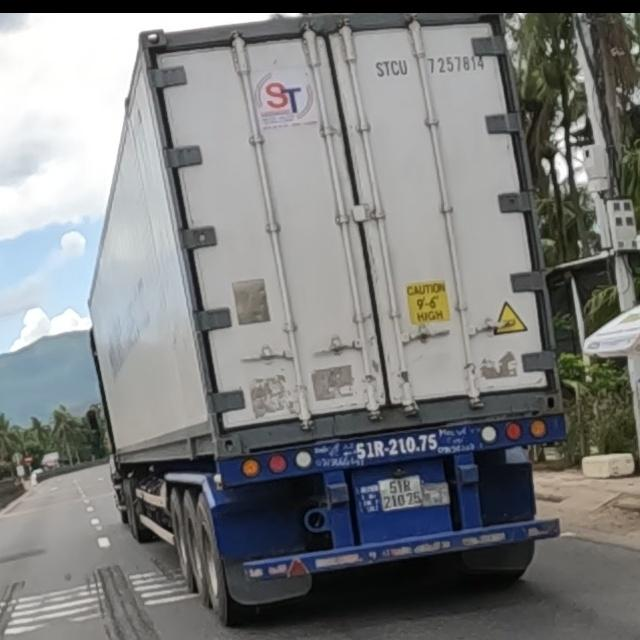license-plate: (378, 475, 427, 510)
